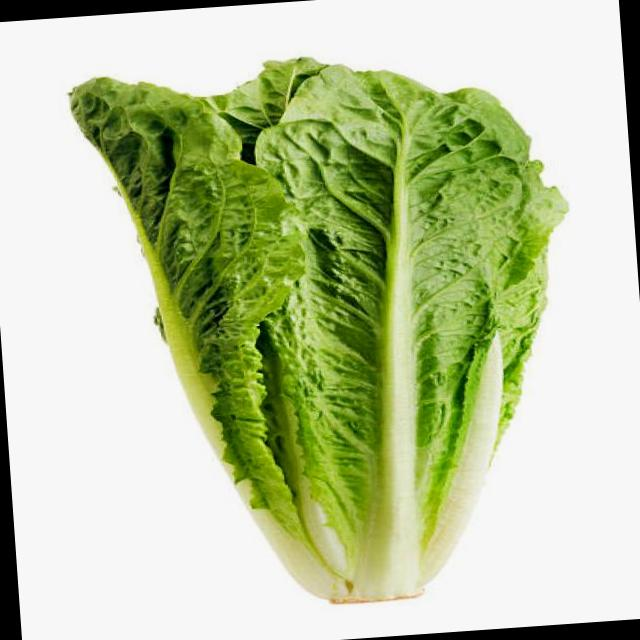Lettuce-Ready-to-Harvest: (71, 58, 565, 601)
